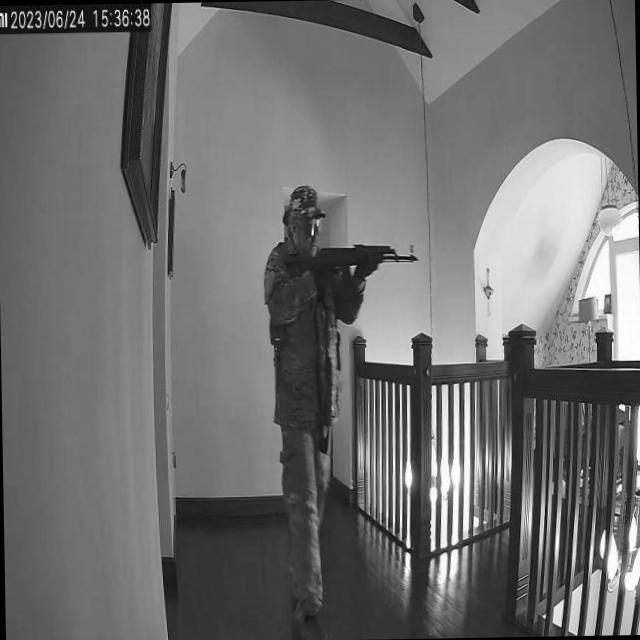gun: (287, 240, 422, 277)
person with a gun: (261, 181, 431, 640)
